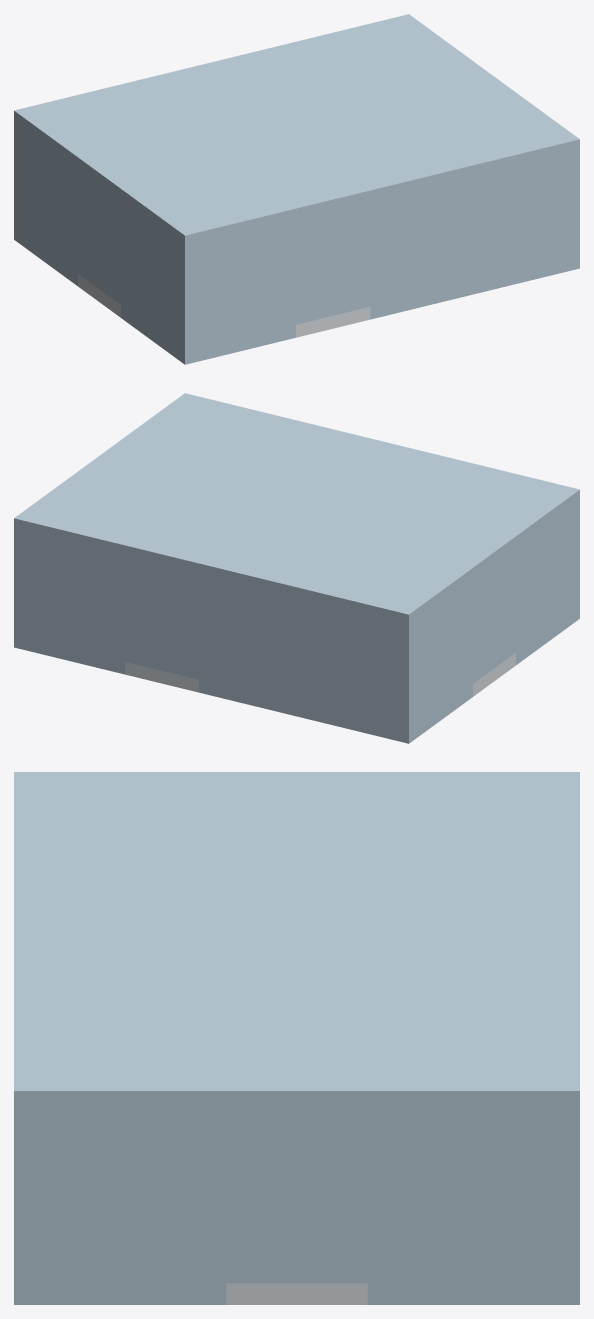
File: ice-cavern-mirror.glb
The picture shows the model from 3 angles, top to bottom: view 1: azimuth 30°, elevation 25°; view 2: azimuth 150°, elevation 25°; view 3: azimuth 270°, elevation 25°; orthographic projection. The views are drawn at different scales.
Parts seen in each view (by area): view 1: ice-rock_33, ice-rock_25, ice-rock_16, plug_ice_south, plug_ice_west, ice-rock_23, ice-rock_22, ice-rock_19, ice-rock_20, ice-rock_21, ice-rock_24, ice-rock_18 (+10 smaller); view 2: ice-rock_33, ice-rock_1, ice-rock_2, ice-rock_16, plug_ice_north, plug_ice_west, ice-rock_26, ice-rock_7, ice-rock_3, ice-rock_5, ice-rock_10, ice-rock_27 (+2 smaller); view 3: ice-rock_33, ice-rock_17, ice-rock_9, plug_ice_east, ice-rock_4, ice-rock_6, ice-rock_28, ice-rock_2, snow_16.
Boxes of the visible parts, left/top/right/bottom form: ice-rock_33: left=14, top=14, right=579, bottom=248; ice-rock_25: left=370, top=173, right=493, bottom=319; ice-rock_16: left=121, top=202, right=197, bottom=364; plug_ice_south: left=296, top=229, right=370, bottom=324; plug_ice_west: left=78, top=196, right=120, bottom=304; ice-rock_23: left=493, top=167, right=518, bottom=289; ice-rock_22: left=246, top=227, right=271, bottom=349; ice-rock_19: left=543, top=155, right=567, bottom=277; ice-rock_20: left=222, top=233, right=246, bottom=355; ice-rock_21: left=518, top=161, right=542, bottom=283; ice-rock_24: left=271, top=221, right=295, bottom=343; ice-rock_18: left=197, top=239, right=221, bottom=361; ice-rock_33: left=14, top=393, right=579, bottom=627; ice-rock_1: left=199, top=576, right=415, bottom=743; ice-rock_2: left=14, top=531, right=124, bottom=674; ice-rock_16: left=516, top=502, right=579, bottom=664; plug_ice_north: left=125, top=584, right=198, bottom=679; plug_ice_west: left=473, top=575, right=515, bottom=683; ice-rock_26: left=125, top=558, right=198, bottom=601; ice-rock_7: left=444, top=591, right=458, bottom=717; ice-rock_3: left=416, top=612, right=430, bottom=738; ice-rock_5: left=430, top=602, right=444, bottom=727; ice-rock_10: left=459, top=581, right=472, bottom=706; ice-rock_27: left=473, top=549, right=515, bottom=606; ice-rock_33: left=14, top=772, right=579, bottom=1112; ice-rock_17: left=14, top=1112, right=226, bottom=1304; ice-rock_9: left=367, top=1112, right=461, bottom=1304; plug_ice_east: left=226, top=1155, right=367, bottom=1283; ice-rock_4: left=509, top=1112, right=556, bottom=1304; ice-rock_6: left=462, top=1112, right=509, bottom=1304; ice-rock_28: left=226, top=1112, right=367, bottom=1155; ice-rock_2: left=556, top=1112, right=579, bottom=1304; snow_16: left=226, top=1283, right=367, bottom=1304.
Size of the model in its own units: 16 by 5 by 12.
